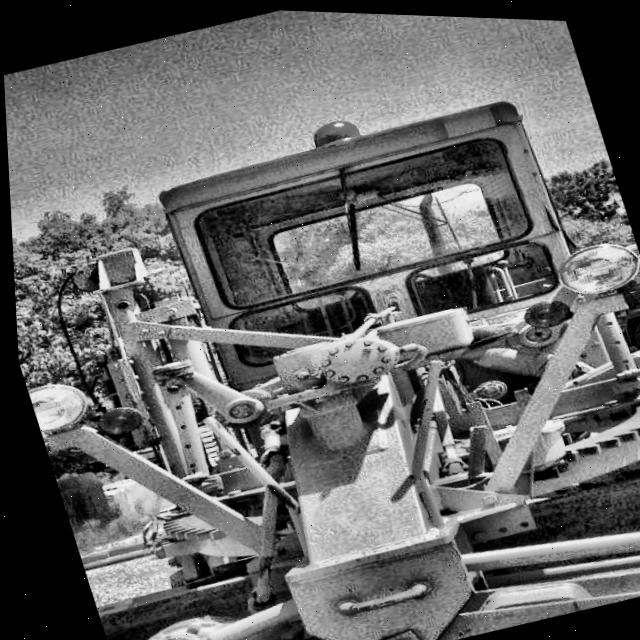buldozerpayloadergrader: (2, 37, 640, 640)
